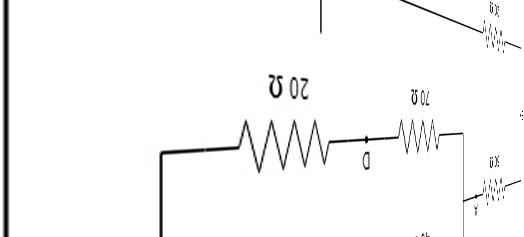resistor: (221, 105, 335, 182), (391, 105, 451, 160), (474, 9, 513, 64), (471, 176, 515, 206)
